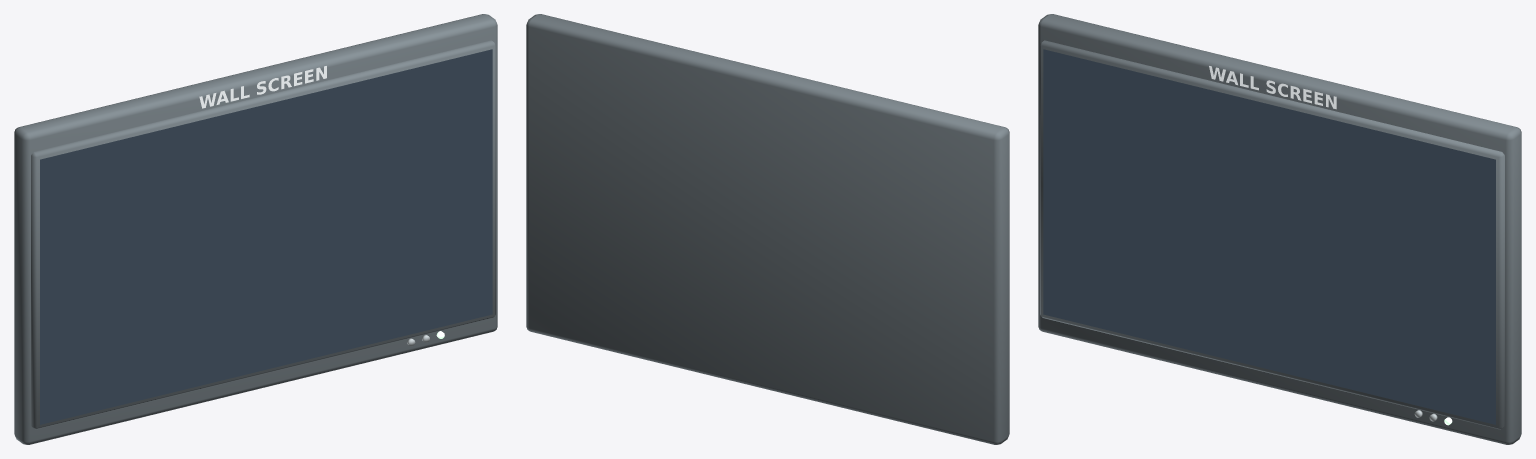
Rendered from wall_screen_ultra.glb.
3 views of the same model, side by side, from view 1: azimuth 30°, elevation 25°; view 2: azimuth 150°, elevation 25°; view 3: azimuth 330°, elevation 25° (orthographic).
Parts seen in each view (by area): view 1: LiveViewSurface_glass, DisplayHousing_frame, LiveViewSurfaceFrame_frame, TypeLabel_white; view 2: DisplayHousing_frame; view 3: LiveViewSurface_glass, DisplayHousing_frame, LiveViewSurfaceFrame_frame, TypeLabel_white.
Part boxes in pixels (x1,y1,x2,y2): LiveViewSurface_glass: (40,49,492,424); DisplayHousing_frame: (14,14,497,444); LiveViewSurfaceFrame_frame: (31,40,495,429); TypeLabel_white: (199,66,326,108); DisplayHousing_frame: (526,14,1009,444); LiveViewSurface_glass: (1043,49,1495,424); DisplayHousing_frame: (1038,14,1521,444); LiveViewSurfaceFrame_frame: (1040,40,1504,429); TypeLabel_white: (1209,66,1336,109).
Size of the model in its own units: 2.73 by 1.72 by 0.168.
